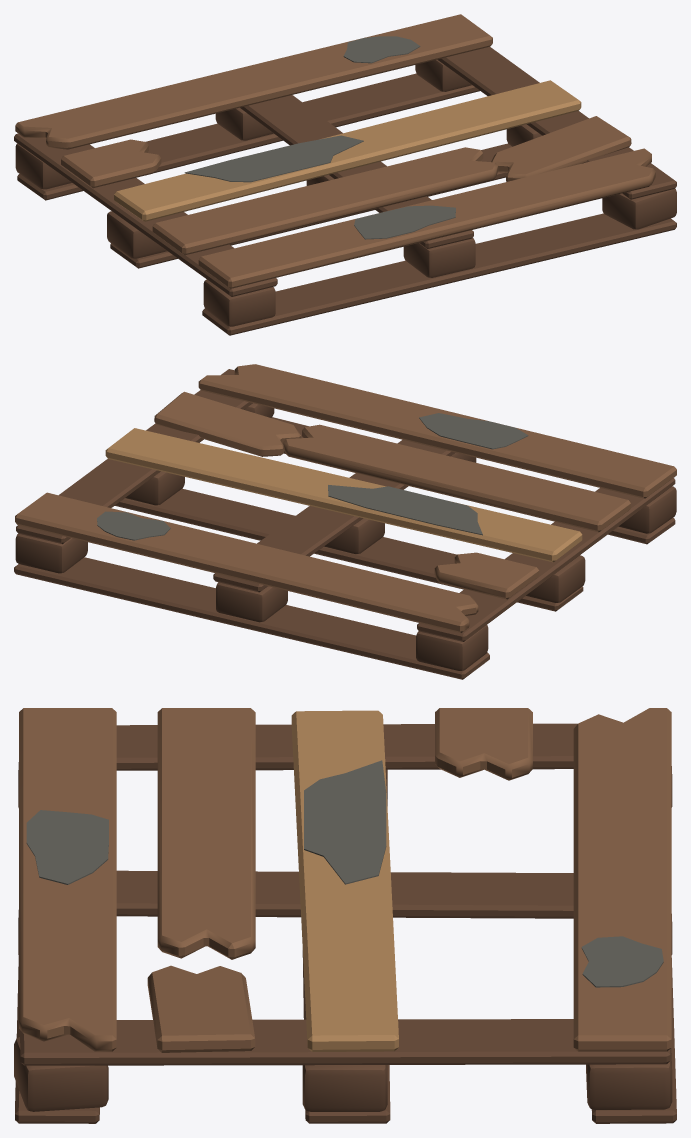
Rendered from pallet.glb.
3 views of the same model, one above another, from view 1: azimuth 30°, elevation 25°; view 2: azimuth 150°, elevation 25°; view 3: azimuth 270°, elevation 25° (orthographic). The views are drawn at different scales.
Parts seen in each view (by area): view 1: pallet; view 2: pallet; view 3: pallet.
Part boxes in pixels (x1,y1,x2,y2): pallet: (14, 14, 676, 335); pallet: (14, 364, 676, 679); pallet: (14, 708, 676, 1123).
Size of the model in its own units: 1.22 by 0.1525 by 1.02.
